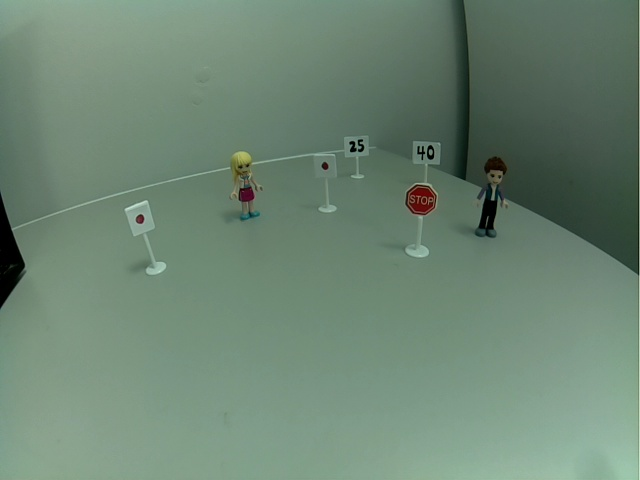people: (472, 155, 513, 240), (227, 150, 266, 222)
red light: (124, 199, 156, 237), (311, 153, 339, 181)
speed 25: (343, 134, 372, 159)
speed 40: (411, 139, 442, 167)
stop: (404, 182, 439, 219)
